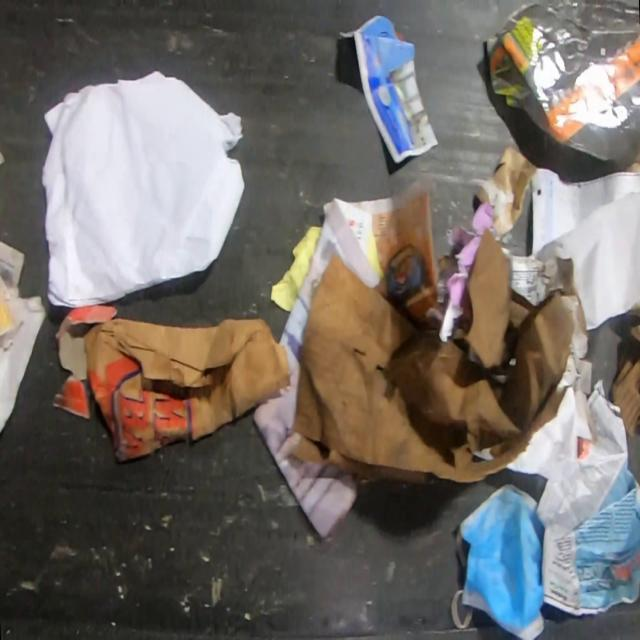cardboard: (278, 223, 575, 486), (502, 247, 594, 397), (51, 303, 119, 420), (608, 320, 640, 438), (622, 149, 640, 173)
